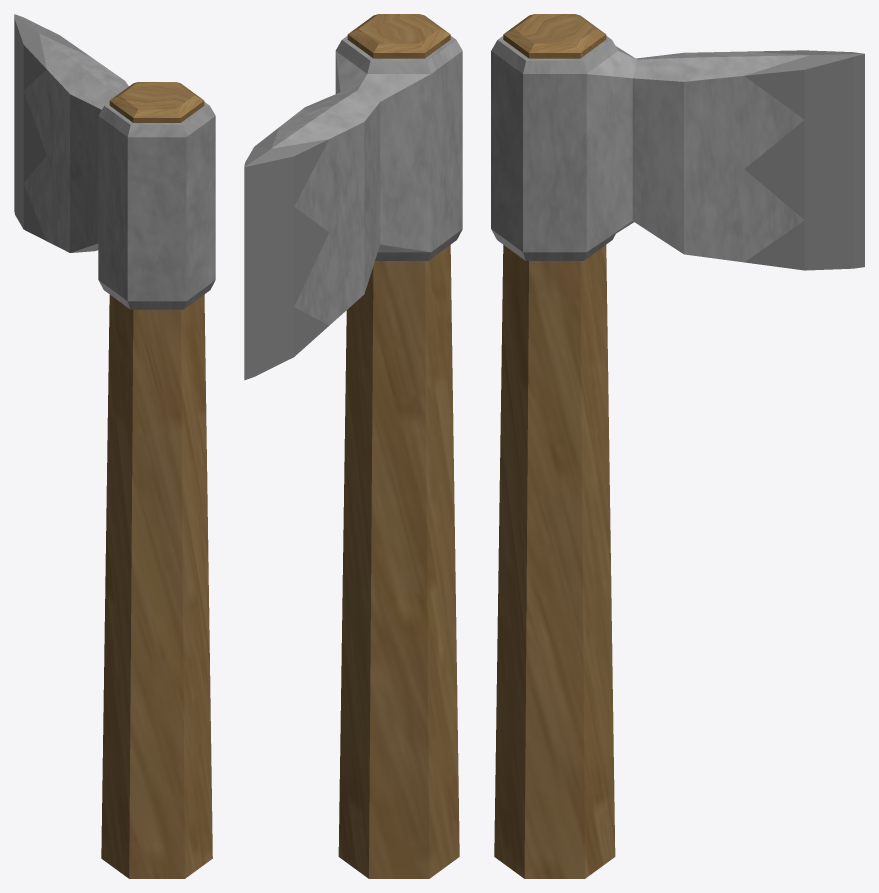
The model's file is item_axe_stone.fbx.
3 views of the same model, side by side, from view 1: azimuth 30°, elevation 25°; view 2: azimuth 150°, elevation 25°; view 3: azimuth 270°, elevation 25° (orthographic). The views are drawn at different scales.
Visible parts, largest first — view 1: Edge; view 2: Edge; view 3: Edge.
Part boxes in pixels (bbox=[...]): Edge: bbox=[14, 14, 215, 878]; Edge: bbox=[244, 14, 462, 878]; Edge: bbox=[491, 14, 864, 878].
Bounding box in the file's own units: 182 × 1510 × 618.
Materials: 3 (2 with a texture image).
